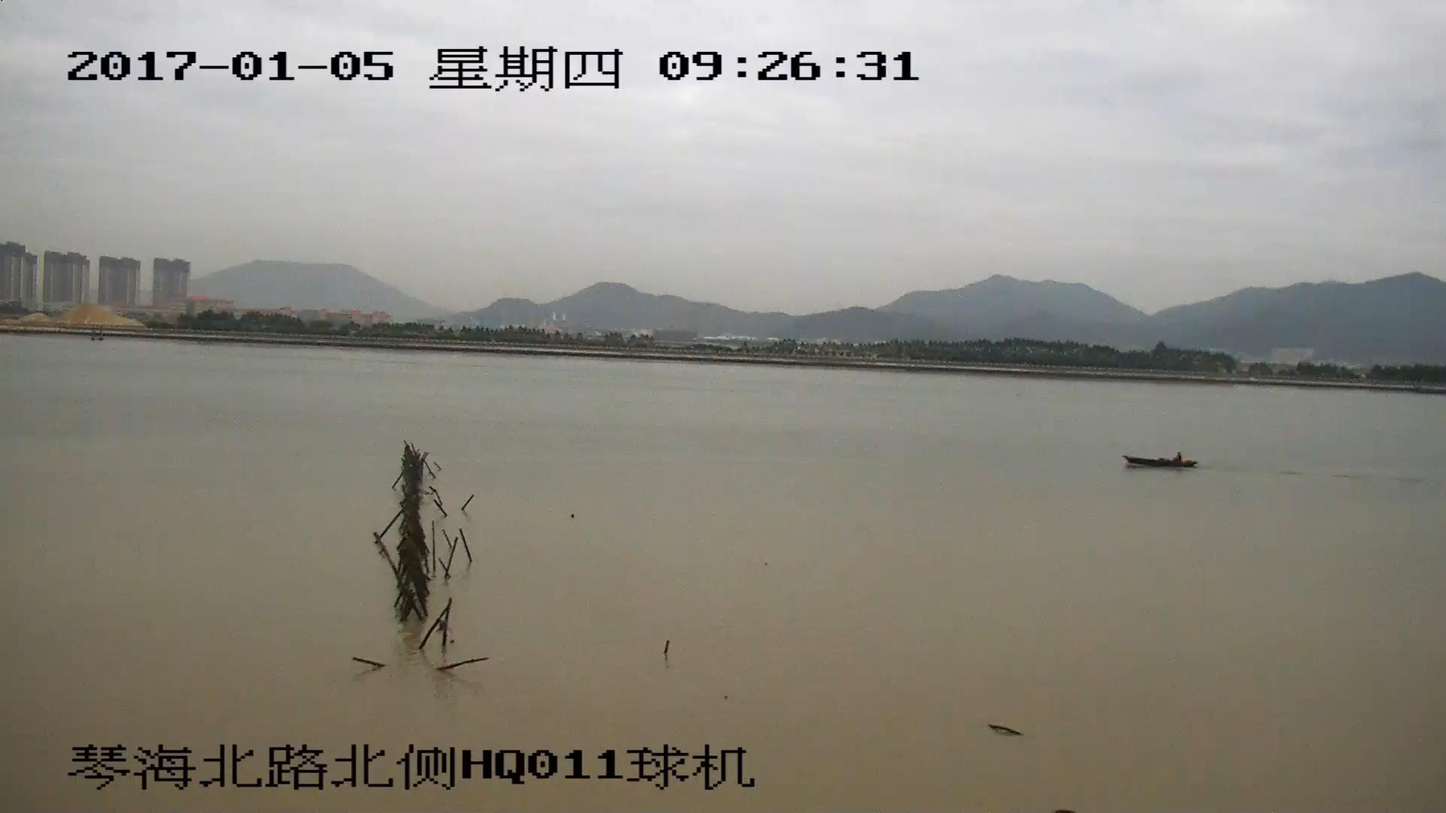fishing boat: (1122, 449, 1194, 468)
